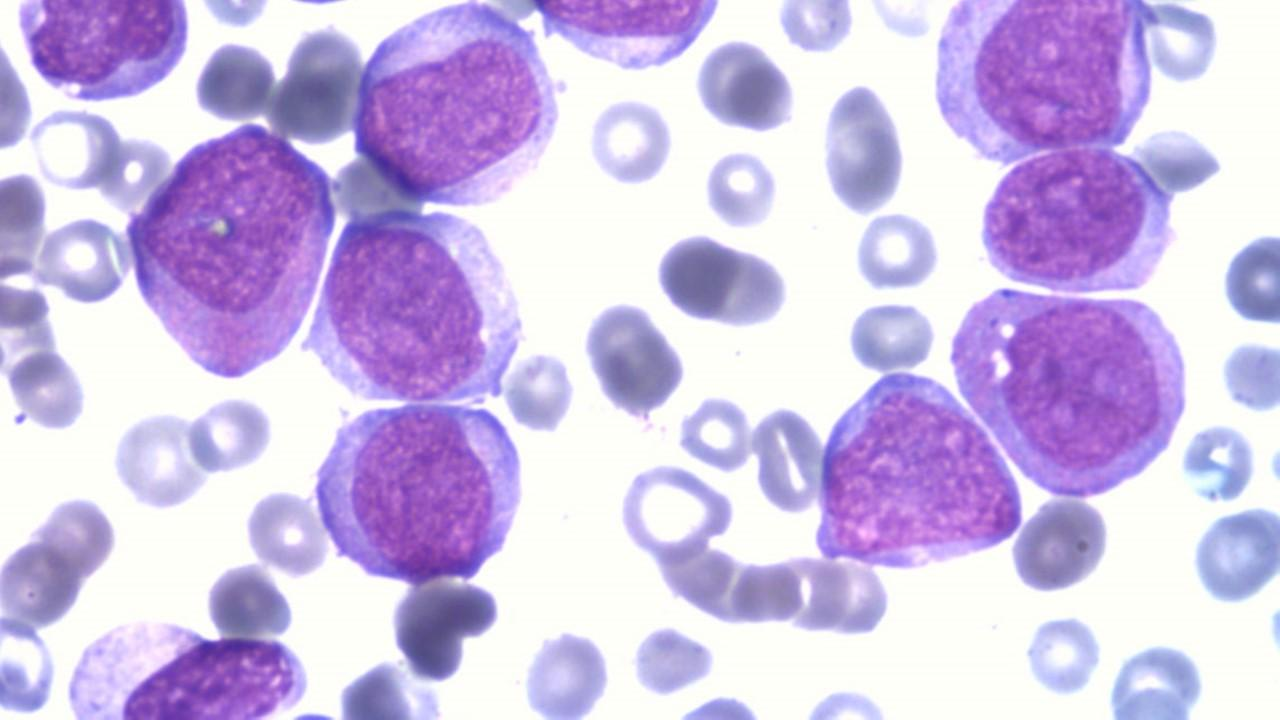Platelets: (1265, 598, 1280, 658), (1265, 442, 1280, 490), (8, 409, 31, 429), (551, 76, 570, 95)
RBC: (582, 292, 690, 419), (816, 76, 911, 218), (384, 574, 500, 685), (614, 460, 738, 563), (1008, 490, 1115, 598), (108, 406, 214, 512), (686, 231, 794, 326), (516, 624, 618, 720), (34, 210, 133, 308), (1189, 501, 1279, 608), (693, 35, 787, 136), (582, 96, 678, 189), (26, 104, 125, 194), (751, 400, 828, 514), (1102, 639, 1212, 716), (241, 486, 331, 580), (1018, 609, 1108, 700), (651, 231, 739, 323), (201, 558, 297, 640), (1136, 0, 1224, 89), (186, 391, 277, 477), (1, 534, 80, 630), (6, 344, 90, 434), (852, 211, 944, 293), (842, 298, 941, 374), (192, 36, 277, 124), (626, 622, 720, 698), (702, 144, 782, 232), (1179, 422, 1259, 506), (501, 350, 577, 436), (675, 392, 753, 474), (1, 607, 60, 715), (1220, 229, 1280, 327), (726, 59, 798, 137), (1217, 337, 1279, 418), (774, 1, 857, 59), (1, 24, 36, 158), (798, 682, 892, 718)
WBC: (120, 116, 342, 388), (946, 280, 1197, 503), (345, 0, 567, 214), (300, 204, 529, 409), (809, 365, 1026, 575), (308, 394, 530, 590), (926, 0, 1150, 173), (974, 138, 1181, 301), (68, 622, 330, 716), (10, 0, 194, 105), (522, 2, 726, 78)
